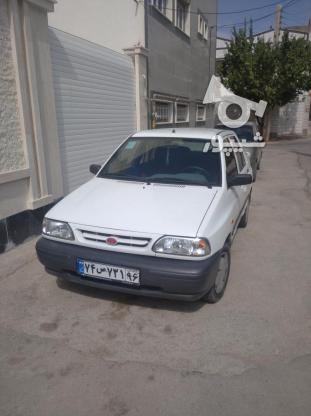car: (75, 258, 141, 286)
